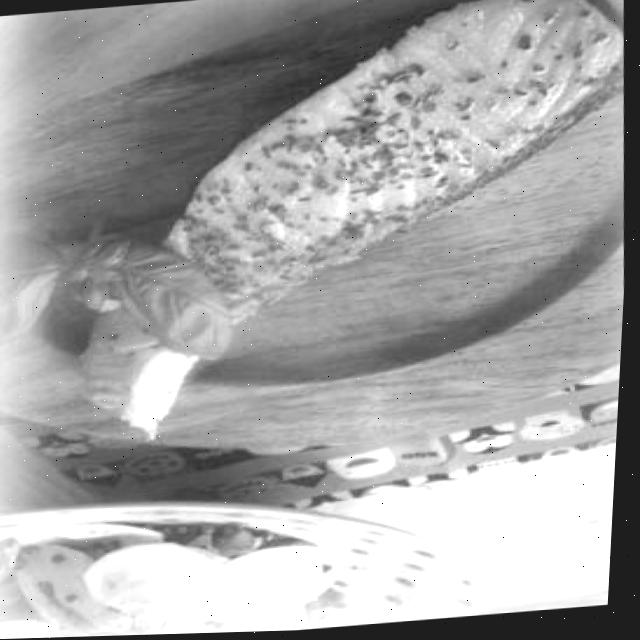熟制海鲜: (55, 0, 613, 452)
